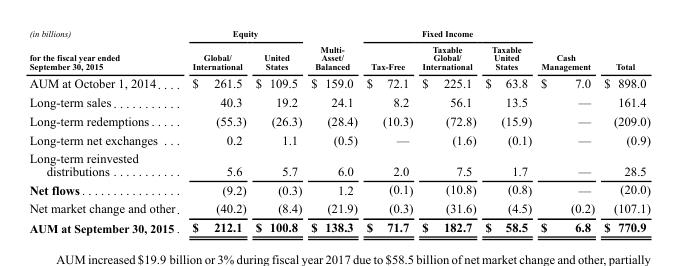table: (28, 28, 649, 234)
table column: (28, 28, 185, 234), (185, 28, 250, 234), (416, 28, 480, 234), (535, 28, 598, 234), (305, 28, 361, 234), (250, 28, 305, 234), (361, 28, 416, 234), (480, 28, 535, 234), (598, 28, 649, 234)
table column header: (28, 28, 649, 73)
table row: (28, 41, 649, 73), (28, 148, 649, 179), (28, 73, 649, 92), (28, 92, 649, 111), (28, 111, 649, 130), (28, 179, 649, 198), (28, 198, 649, 217), (28, 130, 649, 148), (28, 217, 649, 234), (28, 28, 649, 41)
table spanning cell: (28, 28, 185, 73), (535, 28, 598, 73), (305, 28, 361, 73), (598, 28, 649, 73), (361, 28, 535, 41), (185, 28, 305, 41)
